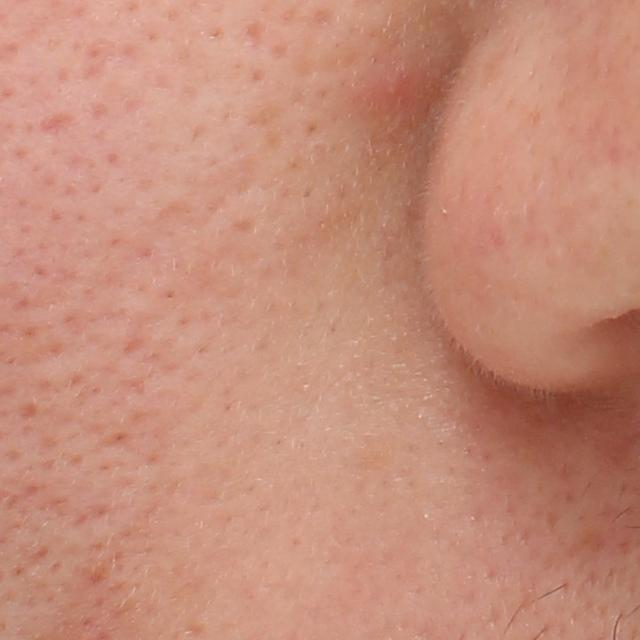atrophic_scar: (38, 109, 78, 137)
